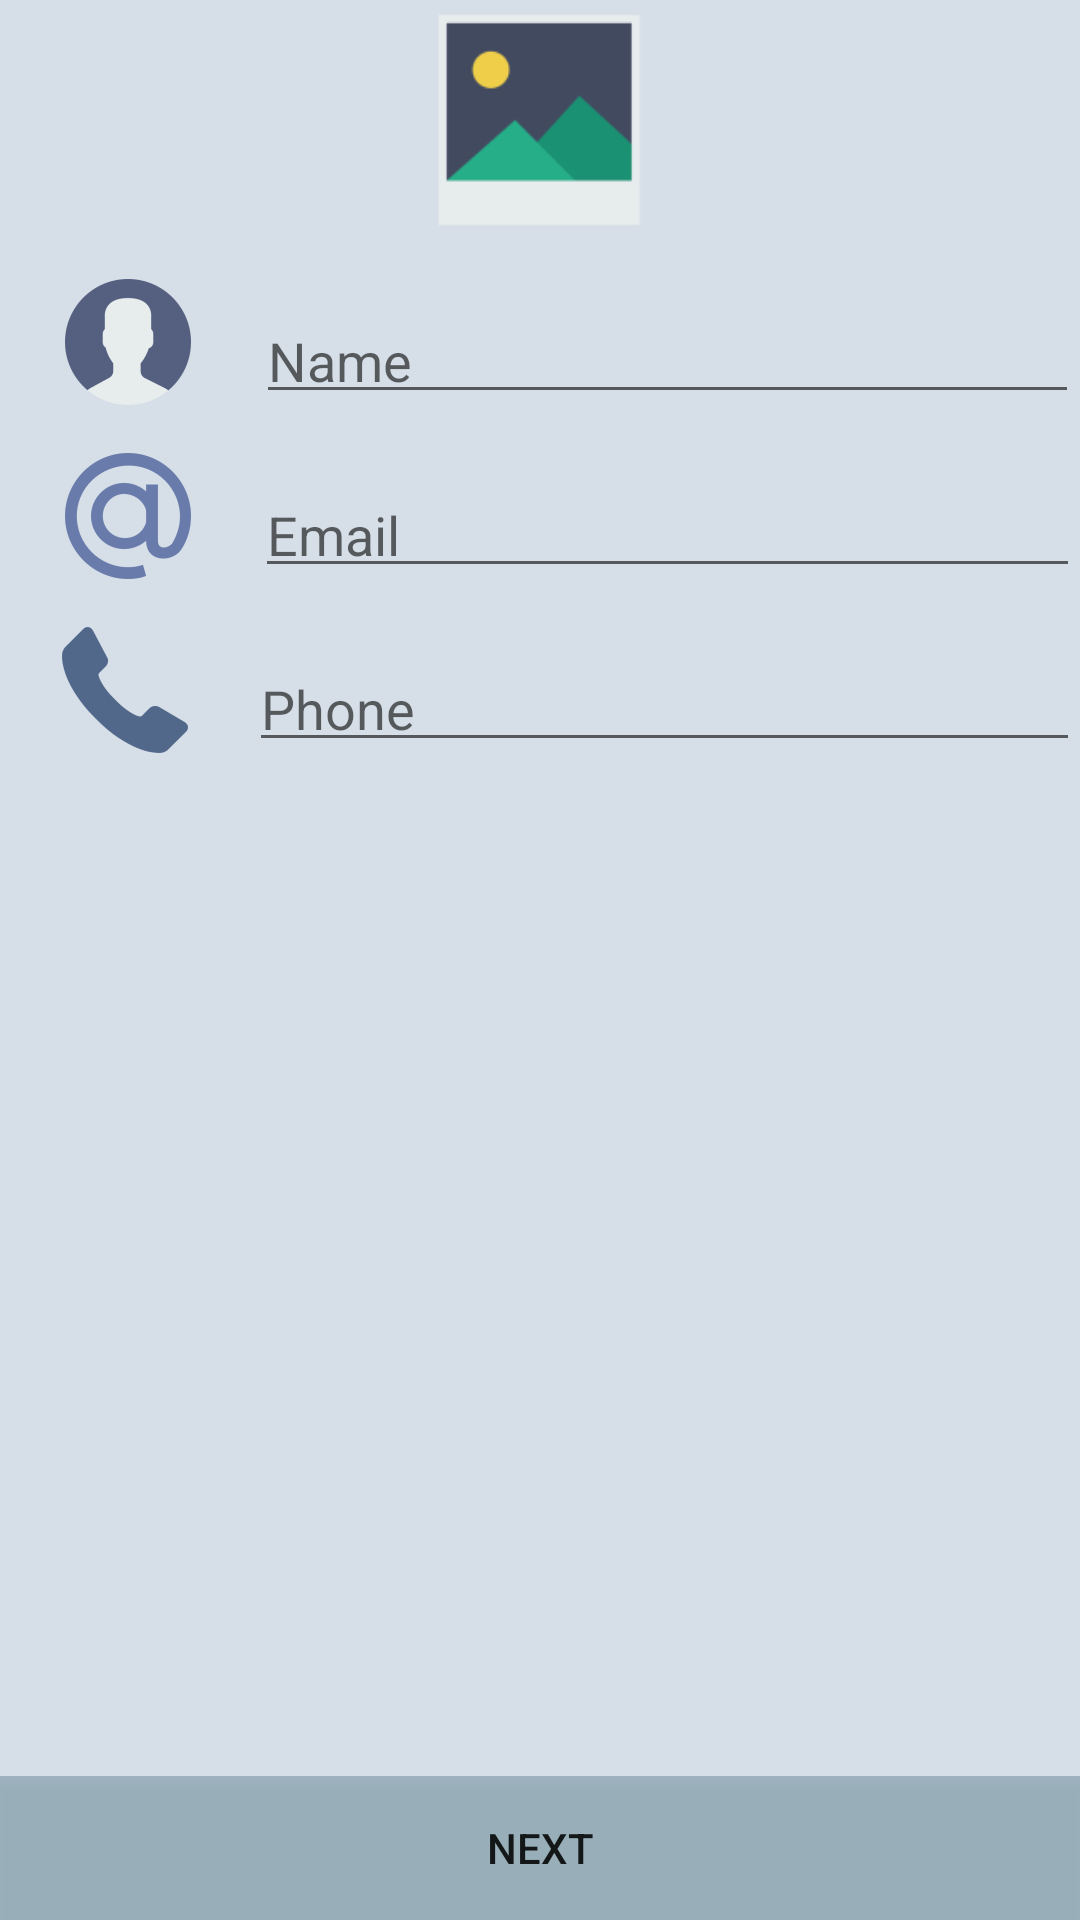

Icon click points for this 1080w x 1920h phone screenshot, format point (x, y):
item user: point (128, 334)
